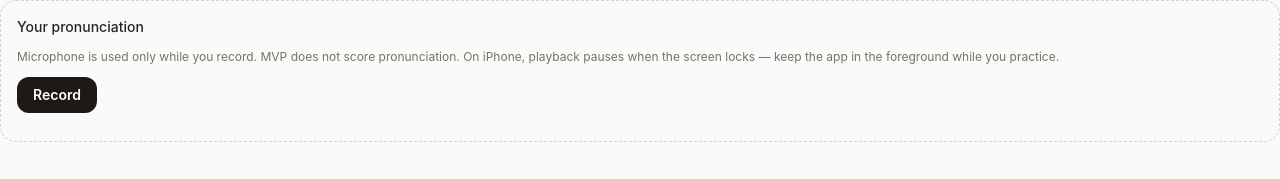
Test: LearnerRecordingPanel › shows the native permission guidance and keeps the panel usable
Click the button "Record".
click(57, 95)  # box [17,77,97,113]
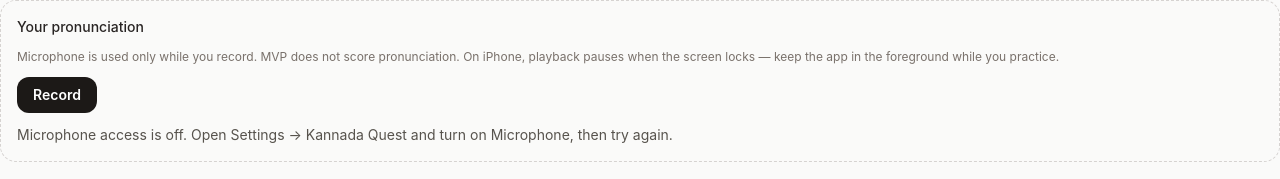
Check: the text "Open Settings → Kannada Quest" is shown, box [17,126,673,143]
